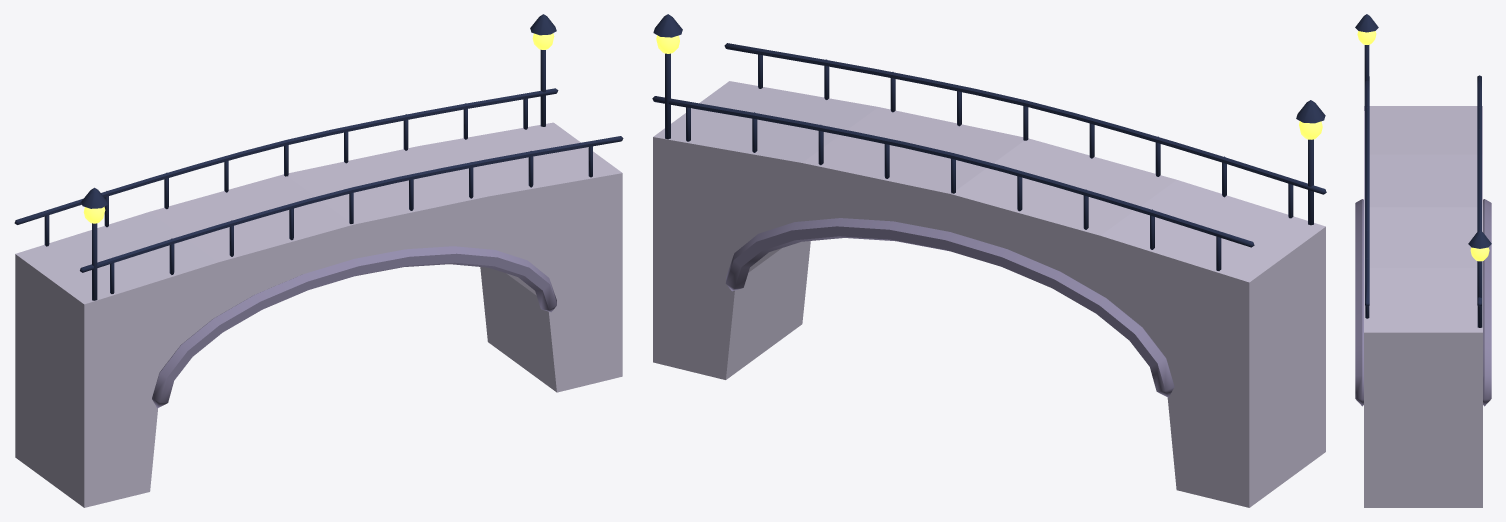
Rendered from W1_Bridge.fbx.
3 renders of one model, left to right at view 1: azimuth 30°, elevation 25°; view 2: azimuth 150°, elevation 25°; view 3: azimuth 270°, elevation 25°, orthographic. The views are drawn at different scales.
Visible parts, largest first — view 1: W1_Bridge; view 2: W1_Bridge; view 3: W1_Bridge.
Part boxes in pixels (box(x1,y1,x2,y2)): W1_Bridge: box(14, 14, 623, 507); W1_Bridge: box(652, 14, 1326, 507); W1_Bridge: box(1355, 14, 1491, 507).
Bounding box in the file's own units: 18.18 × 10.1 × 4.6.
